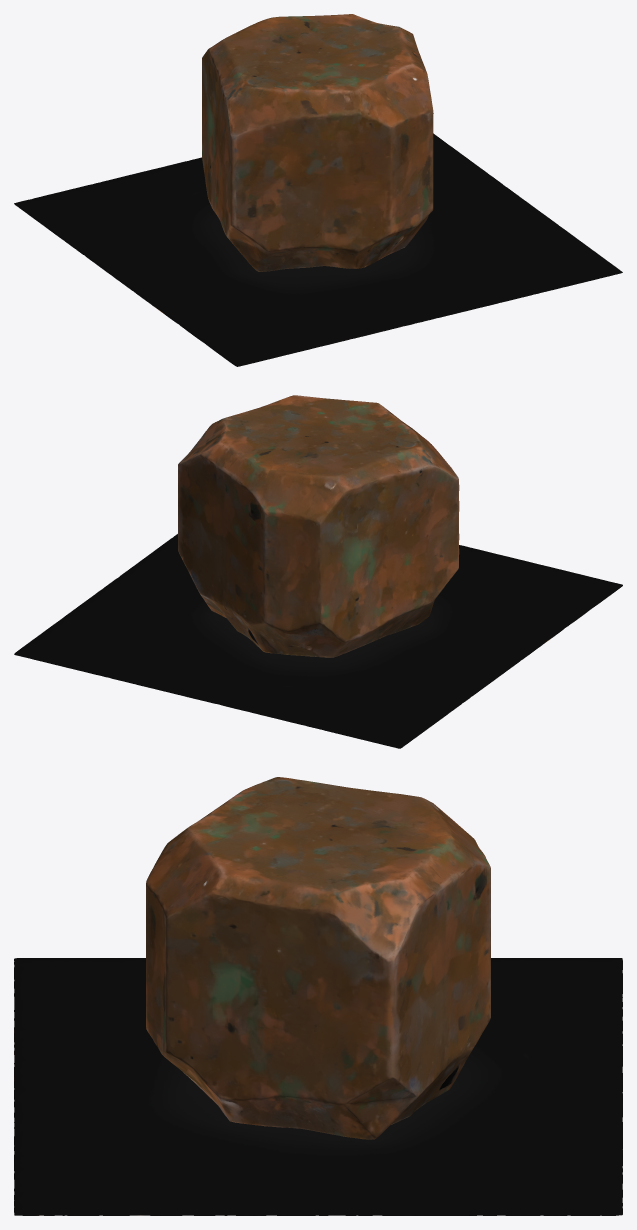
Rendered from mat_copper.glb.
The picture shows the model from 3 angles, top to bottom: view 1: azimuth 30°, elevation 25°; view 2: azimuth 150°, elevation 25°; view 3: azimuth 270°, elevation 25°; orthographic projection. The views are drawn at different scales.
Parts seen in each view (by area): view 1: geometry_0; view 2: geometry_0; view 3: geometry_0.
Part boxes in pixels (bbox=[...]): geometry_0: bbox=[14, 14, 622, 366]; geometry_0: bbox=[14, 395, 622, 748]; geometry_0: bbox=[14, 777, 622, 1215].
Size of the model in its own units: 1 by 0.4579 by 1.
Materials: 1 (1 with a texture image).
